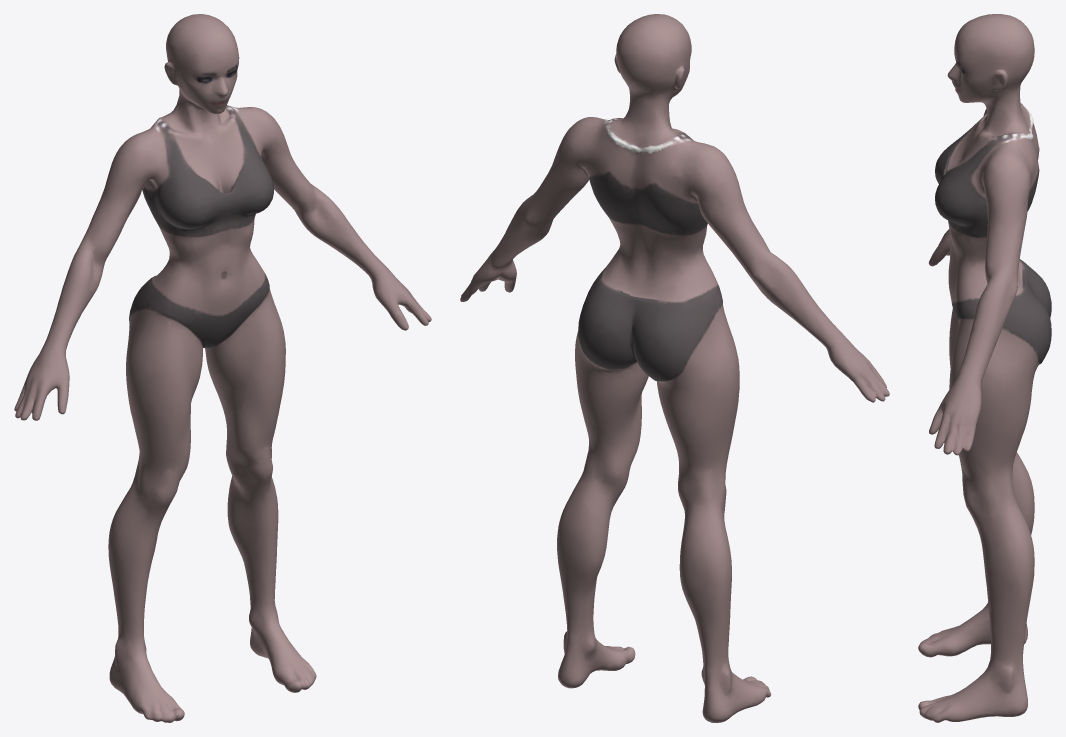
The model's file is 00-Rest-0-child0-twist0-baseline.glb.
3 views of the same model, side by side, from view 1: azimuth 30°, elevation 25°; view 2: azimuth 150°, elevation 25°; view 3: azimuth 270°, elevation 25° (orthographic). The views are drawn at different scales.
Visible parts, largest first — view 1: baseline; view 2: baseline; view 3: baseline.
Boxes of the visible parts, <box> form: baseline: <box>14,14,431,722</box>; baseline: <box>460,14,889,722</box>; baseline: <box>918,14,1051,722</box>.
Bounding box in the file's own units: 0.6509 × 1 × 0.1819.
1 material, 1 textured.
